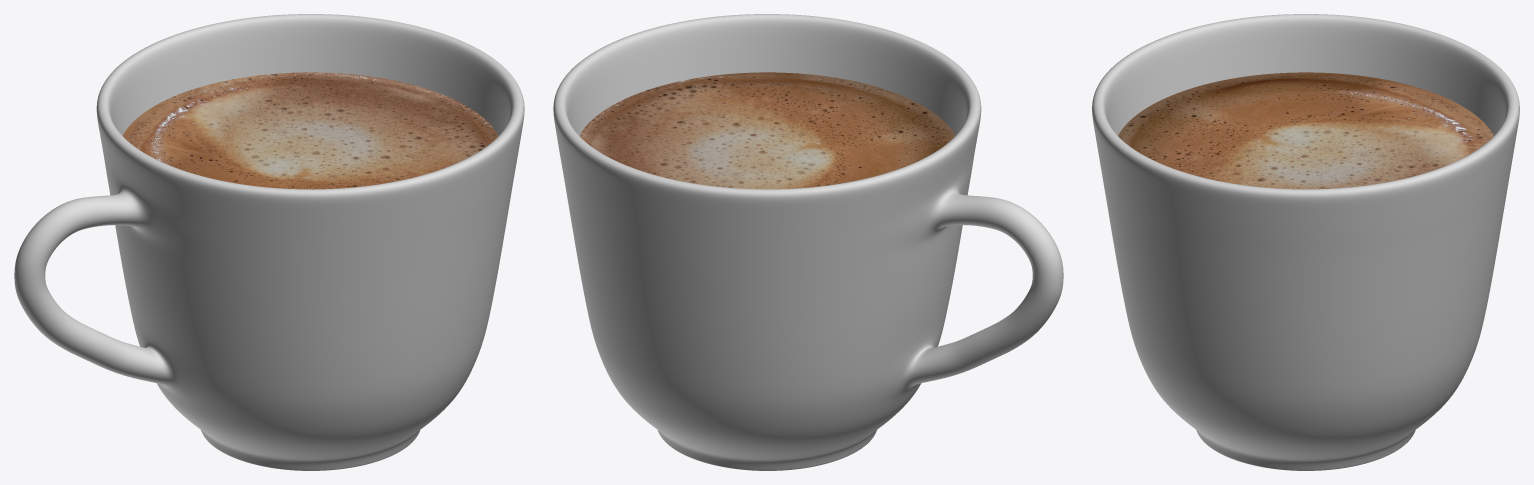
The model's file is coffee-cup-model.fbx.
The picture shows the model from 3 angles, left to right: view 1: azimuth 30°, elevation 25°; view 2: azimuth 150°, elevation 25°; view 3: azimuth 270°, elevation 25°; orthographic projection.
Visible parts, largest first — view 1: Cup, Coffee; view 2: Cup, Coffee; view 3: Cup, Coffee.
Part boxes in pixels (x1,y1,x2,y2): Cup: [14, 14, 524, 470]; Coffee: [122, 72, 498, 189]; Cup: [553, 14, 1063, 470]; Coffee: [579, 72, 955, 189]; Cup: [1092, 14, 1519, 470]; Coffee: [1118, 72, 1493, 189].
Bounding box in the file's own units: 115 × 73.8 × 88.78.
Materials: 2 (1 with a texture image).
